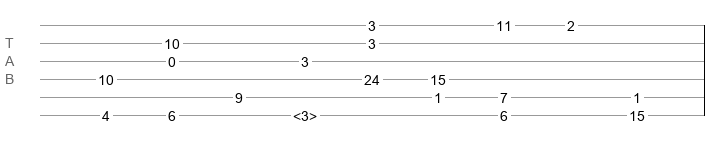0: (168, 54, 176, 64)
1: (434, 90, 442, 100), (633, 90, 641, 100)
10: (98, 72, 114, 82), (164, 36, 180, 46)
11: (496, 18, 512, 28)
15: (430, 72, 446, 82), (629, 108, 645, 118)
2: (567, 18, 575, 28)
24: (364, 72, 380, 82)
3: (301, 54, 309, 64), (368, 36, 376, 46), (368, 18, 376, 28)
4: (102, 108, 110, 118)
6: (168, 108, 176, 118), (500, 108, 508, 118)
7: (500, 90, 508, 100)
9: (235, 90, 243, 100)
harmonic: (293, 108, 317, 118)
